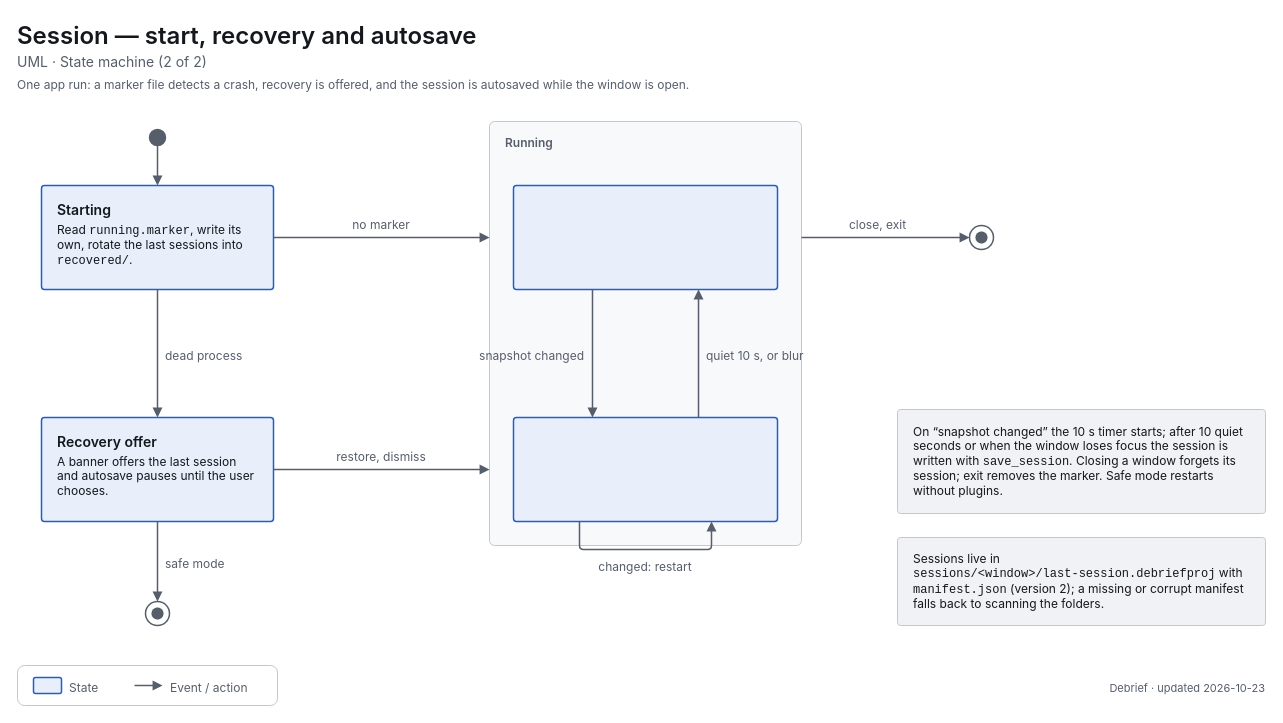
This 1283x723 diagram has some shape labels left out. The shapes that lost their labels are listed below. From the top down, each one's centre as x and y in pixels, then its label:
At pixel 645 237: "Idle The session on disk is current.".
At pixel 645 469: "Save pending A 10 s timer is armed.".
